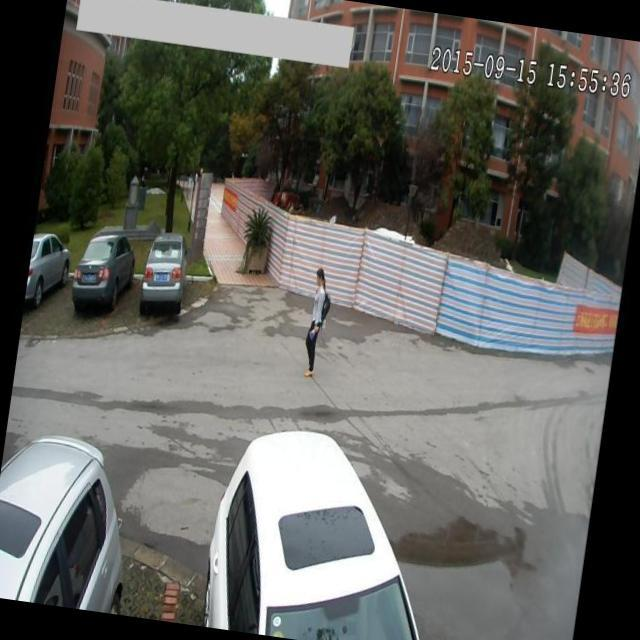person: (296, 262, 338, 381)
